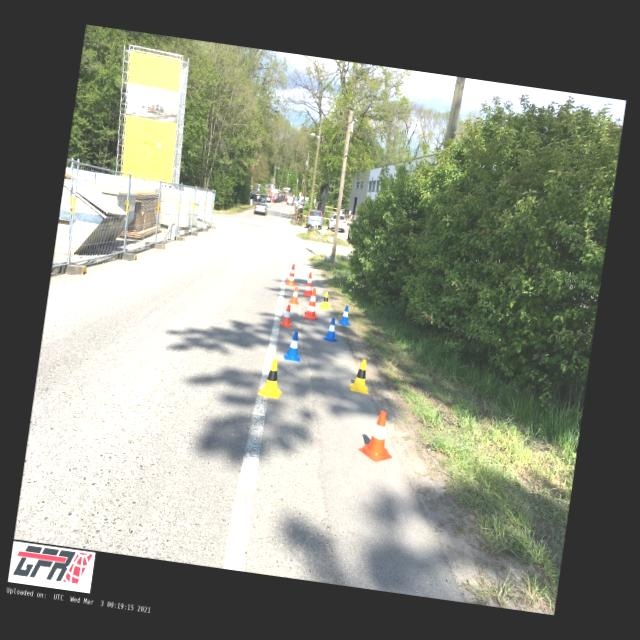blue_cone: (282, 330, 304, 362), (323, 317, 342, 343), (337, 304, 354, 326)
large_orange_cone: (302, 287, 322, 321), (284, 262, 298, 286), (303, 272, 315, 296)
orange_cone: (357, 408, 399, 464), (278, 304, 296, 328), (288, 286, 302, 304)
yellow_cone: (258, 358, 286, 400), (348, 358, 373, 394), (320, 292, 331, 310)
